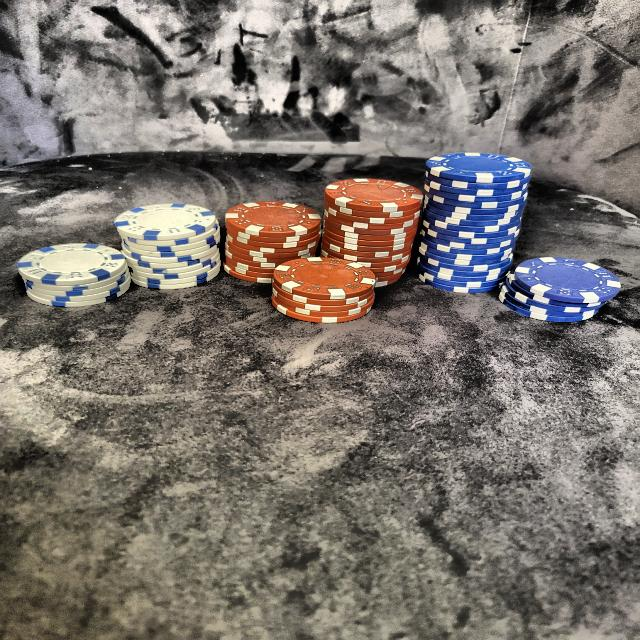Chip: (417, 145, 534, 301), (108, 188, 231, 298), (324, 166, 424, 294), (20, 224, 140, 322), (224, 190, 326, 294), (272, 239, 380, 332), (504, 244, 618, 328)
